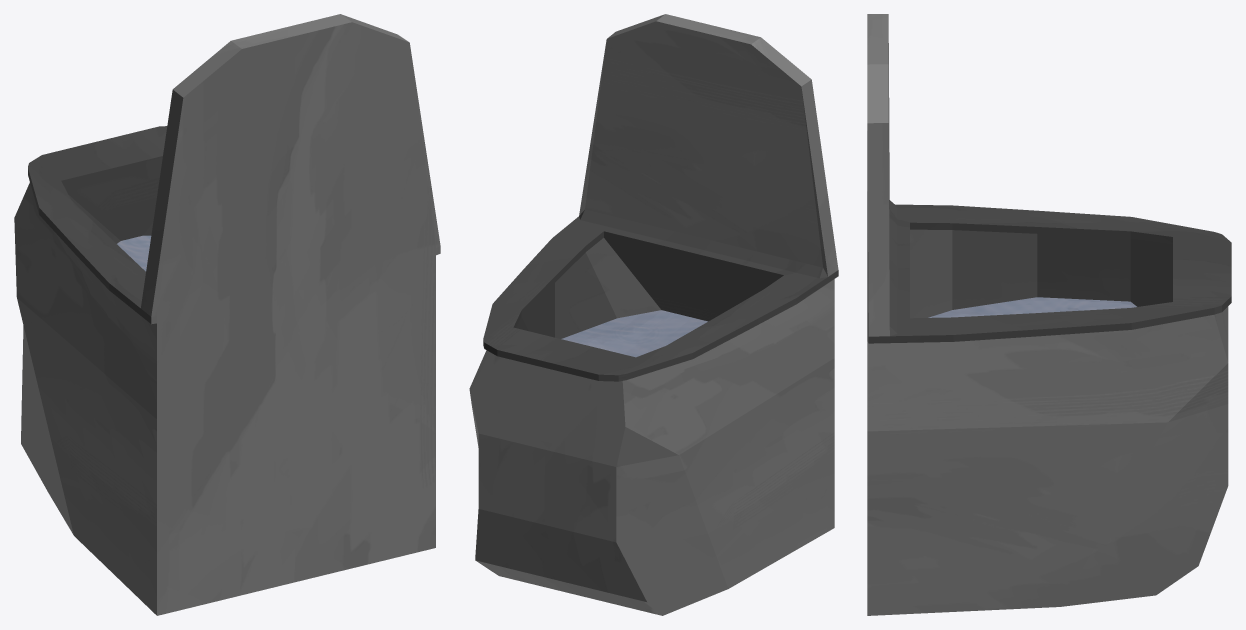
The picture shows the model from 3 angles, left to right: view 1: azimuth 30°, elevation 25°; view 2: azimuth 150°, elevation 25°; view 3: azimuth 270°, elevation 25°; orthographic projection. The views are drawn at different scales.
Visible parts, largest first — view 1: Cube; view 2: Cube; view 3: Cube.
Part boxes in pixels (x1,y1,x2,y2): Cube: [14, 14, 440, 615]; Cube: [469, 14, 838, 615]; Cube: [867, 14, 1231, 615].
Bounding box in the file's own units: 43.48 × 50.44 × 78.42.
Materials: 1 (1 with a texture image).
